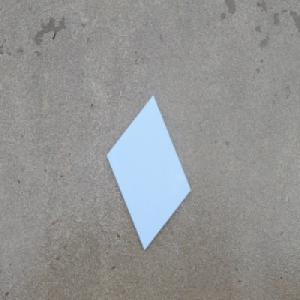PaintChip: (107, 94, 192, 252)
